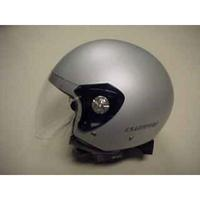helmet: (51, 42, 178, 155)
